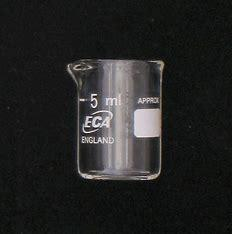Beaker: (61, 47, 164, 186)
